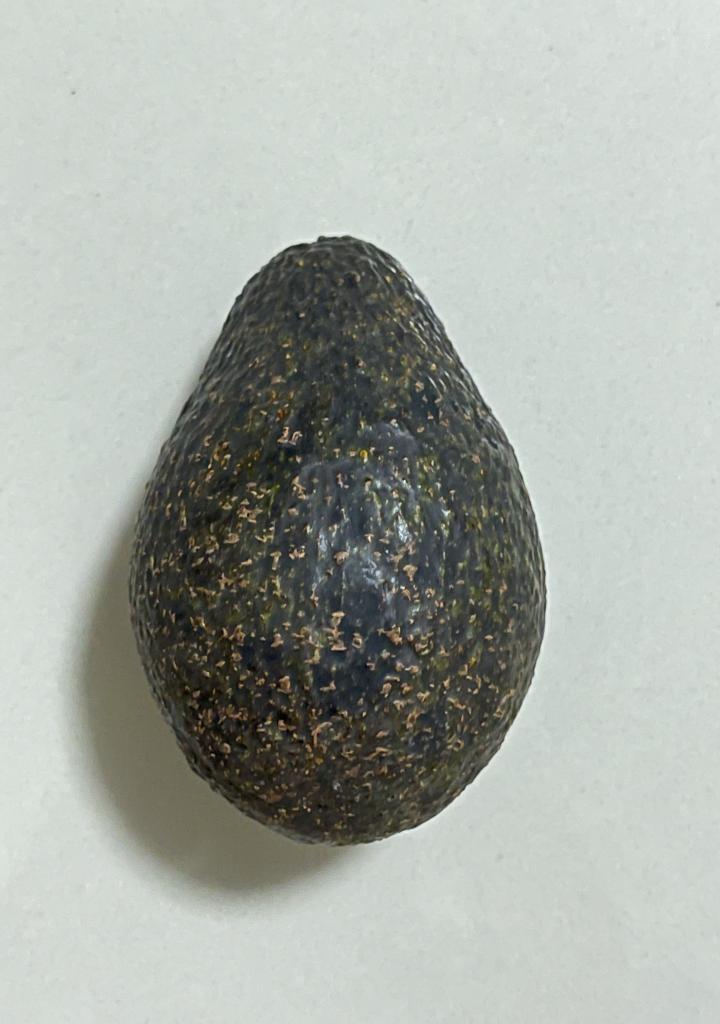Level2: (116, 221, 558, 857)
